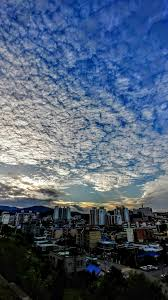sky: (1, 3, 167, 202)
vilage: (3, 206, 164, 300)
